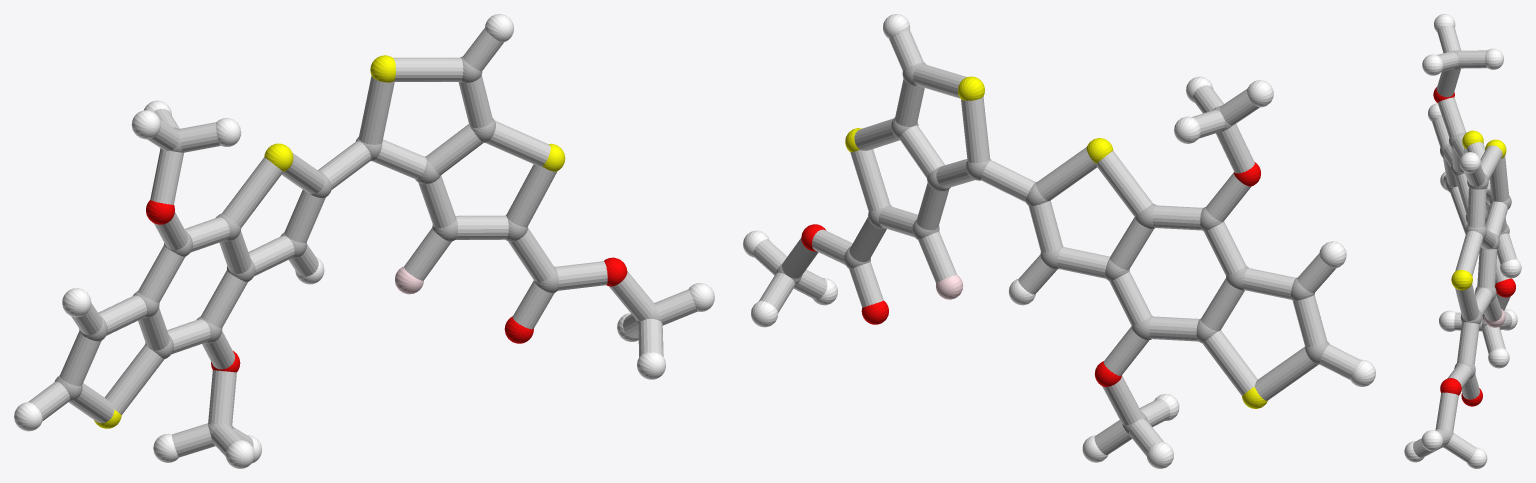
File: color.glb
3 renders of one model, left to right at view 1: azimuth 30°, elevation 25°; view 2: azimuth 150°, elevation 25°; view 3: azimuth 270°, elevation 25°, orthographic. The views are drawn at different scales.
Parts seen in each view (by area): view 1: grp15205, grp8689, grp1, grp7241, grp13395; view 2: grp15205, grp8689, grp1, grp13395, grp7241; view 3: grp15205, grp8689, grp1, grp13395, grp7241, grp14843.
Part boxes in pixels (left/top/right/bottom): grp15205: left=28, top=28, right=697, bottom=457; grp8689: left=14, top=14, right=714, bottom=468; grp1: left=54, top=56, right=661, bottom=445; grp7241: left=94, top=55, right=565, bottom=428; grp13395: left=146, top=200, right=627, bottom=372; grp15205: left=753, top=30, right=1360, bottom=455; grp8689: left=743, top=14, right=1375, bottom=468; grp1: left=776, top=62, right=1329, bottom=433; grp13395: left=801, top=162, right=1260, bottom=386; grp7241: left=845, top=76, right=1267, bottom=408; grp15205: left=1413, top=25, right=1516, bottom=462; grp8689: left=1404, top=14, right=1521, bottom=468; grp1: left=1435, top=50, right=1511, bottom=447; grp13395: left=1433, top=87, right=1515, bottom=406; grp7241: left=1451, top=130, right=1506, bottom=290; grp14843: left=1484, top=309, right=1505, bottom=327.
Size of the model in its own units: 16.19 by 9.32 by 3.27.
